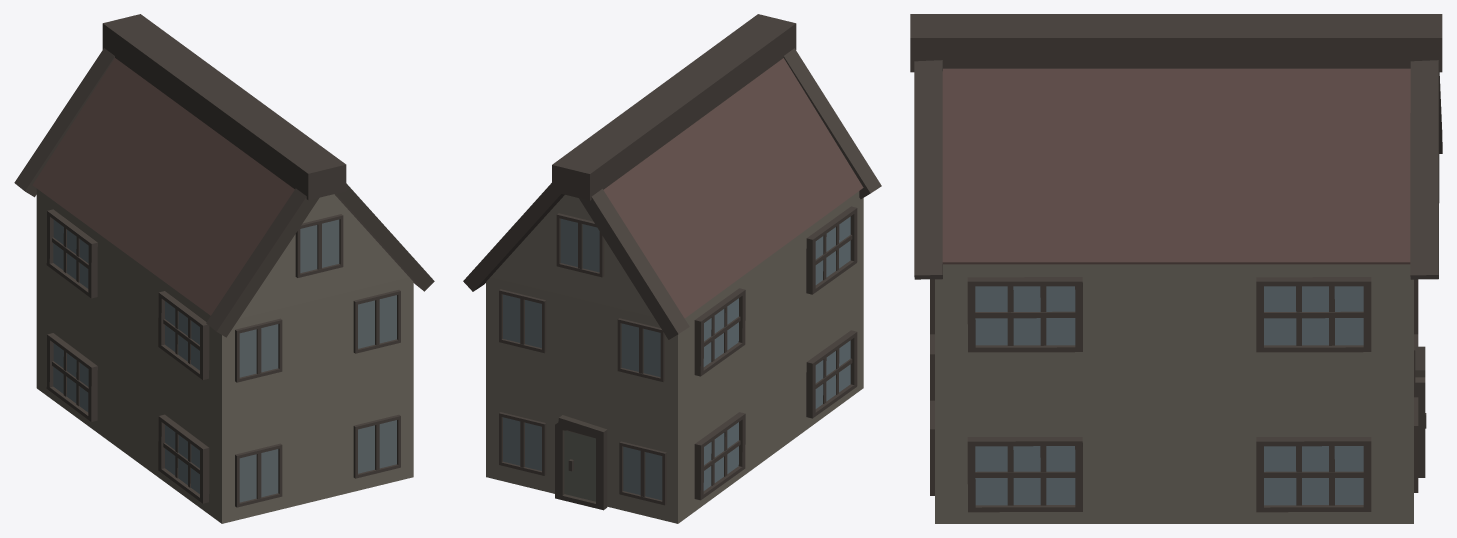
Rendered from M_House_Hut01.fbx.
The picture shows the model from 3 angles, left to right: view 1: azimuth 30°, elevation 25°; view 2: azimuth 150°, elevation 25°; view 3: azimuth 270°, elevation 25°; orthographic projection. The views are drawn at different scales.
Visible parts, largest first — view 1: Modern_House; view 2: Modern_House; view 3: Modern_House.
Part boxes in pixels (<box>): Modern_House: <box>14,14,434,523</box>; Modern_House: <box>463,14,881,523</box>; Modern_House: <box>910,14,1442,523</box>.
Bounding box in the file's own units: 6.7 × 10 × 11.01.
